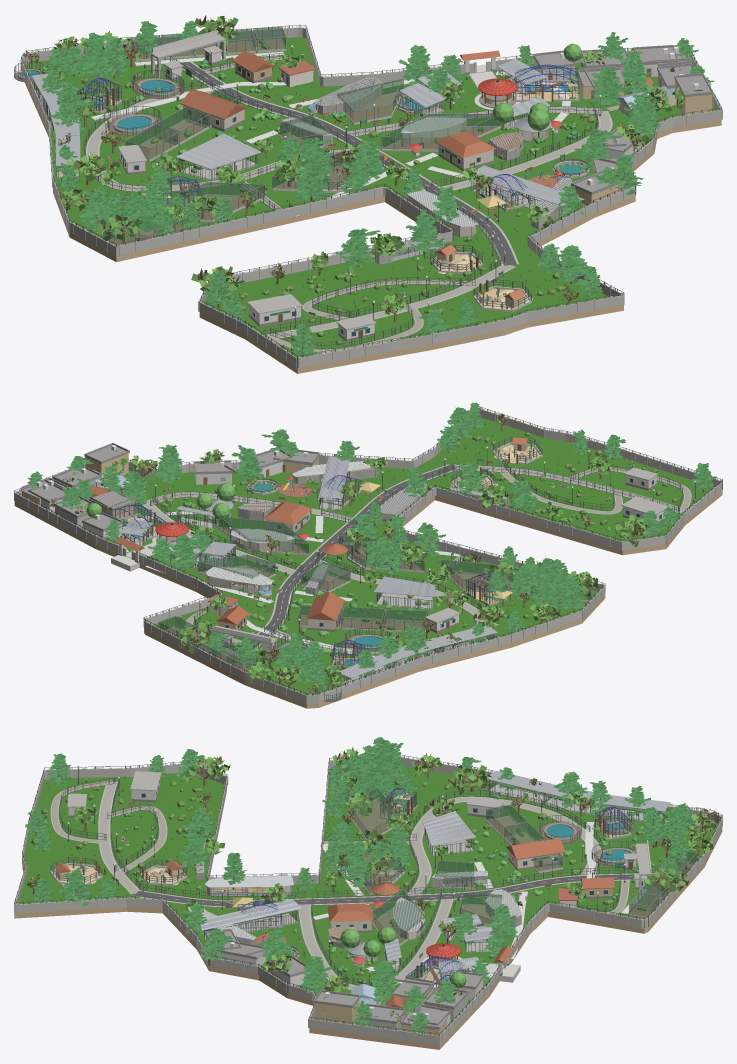
Rendered from mapa_corregido.glb.
The picture shows the model from 3 angles, top to bottom: view 1: azimuth 30°, elevation 25°; view 2: azimuth 150°, elevation 25°; view 3: azimuth 270°, elevation 25°; orthographic projection. The views are drawn at different scales.
Parts seen in each view (by area): view 1: PASTO_BASE, MURO_PERIMETRAL_BLOCK, ZN2_TELA_MALLA, ZN2_LAMINA_RECINTOS, BASE_ZOOLOGICO_NICOLAS_BRAVO, CERCAS_CAMINOS_UNIFICADO, ZN2_CASAS_BLOCK_LOSAS, ZN_TELA_MALLA, ZN2_TELA_PISO_Y_POSTES, CAMINO_AV_PRINCIPAL, PERIMETRO_CERCAS_UNIFICADO, ZN_TELA_PISO_Y_POSTES (+60 smaller); view 2: PASTO_BASE, MURO_PERIMETRAL_BLOCK, ZN2_TELA_MALLA, BASE_ZOOLOGICO_NICOLAS_BRAVO, ZN2_LAMINA_RECINTOS, CERCAS_CAMINOS_UNIFICADO, ZN2_CASAS_BLOCK_LOSAS, ZN_TELA_MALLA, PERIMETRO_CERCAS_UNIFICADO, CAMINO_AV_PRINCIPAL, ZN2_TELA_PISO_Y_POSTES, ZN2_CASAS_BLOCK_MUROS (+49 smaller); view 3: PASTO_BASE, MURO_PERIMETRAL_BLOCK, ZN2_TELA_MALLA, CERCAS_CAMINOS_UNIFICADO, ZN2_LAMINA_RECINTOS, ZN2_CASAS_BLOCK_LOSAS, BASE_ZOOLOGICO_NICOLAS_BRAVO, ZN_TELA_MALLA, CAMINO_AV_PRINCIPAL, ZN_LAMINA_RECINTOS, ZN2_CASAS_BLOCK_MUROS, ZN2_TELA_PISO_Y_POSTES (+53 smaller).
Boxes of the visible parts, left/top/right/bottom form: PASTO_BASE: left=25, top=37, right=715, bottom=357; MURO_PERIMETRAL_BLOCK: left=20, top=27, right=722, bottom=367; ZN2_TELA_MALLA: left=103, top=79, right=500, bottom=244; ZN2_LAMINA_RECINTOS: left=175, top=59, right=584, bottom=216; BASE_ZOOLOGICO_NICOLAS_BRAVO: left=24, top=82, right=721, bottom=373; CERCAS_CAMINOS_UNIFICADO: left=84, top=53, right=601, bottom=348; ZN2_CASAS_BLOCK_LOSAS: left=533, top=44, right=713, bottom=194; ZN_TELA_MALLA: left=126, top=26, right=285, bottom=159; ZN2_TELA_PISO_Y_POSTES: left=103, top=78, right=500, bottom=244; CAMINO_AV_PRINCIPAL: left=179, top=62, right=518, bottom=265; PERIMETRO_CERCAS_UNIFICADO: left=21, top=25, right=721, bottom=367; ZN_TELA_PISO_Y_POSTES: left=125, top=26, right=286, bottom=161; PASTO_BASE: left=53, top=416, right=713, bottom=695; MURO_PERIMETRAL_BLOCK: left=14, top=408, right=722, bottom=703; ZN2_TELA_MALLA: left=198, top=517, right=590, bottom=600; BASE_ZOOLOGICO_NICOLAS_BRAVO: left=14, top=490, right=722, bottom=708; ZN2_LAMINA_RECINTOS: left=120, top=456, right=435, bottom=609; CERCAS_CAMINOS_UNIFICADO: left=150, top=463, right=682, bottom=653; ZN2_CASAS_BLOCK_LOSAS: left=21, top=443, right=319, bottom=531; ZN_TELA_MALLA: left=159, top=605, right=427, bottom=671; PERIMETRO_CERCAS_UNIFICADO: left=14, top=406, right=722, bottom=695; CAMINO_AV_PRINCIPAL: left=237, top=464, right=458, bottom=652; ZN2_TELA_PISO_Y_POSTES: left=198, top=517, right=591, bottom=600; ZN2_CASAS_BLOCK_MUROS: left=22, top=453, right=318, bottom=538; PASTO_BASE: left=18, top=766, right=717, bottom=1030; MURO_PERIMETRAL_BLOCK: left=14, top=756, right=722, bottom=1044; ZN2_TELA_MALLA: left=328, top=768, right=501, bottom=943; CERCAS_CAMINOS_UNIFICADO: left=59, top=775, right=657, bottom=987; ZN2_LAMINA_RECINTOS: left=200, top=811, right=493, bottom=981; ZN2_CASAS_BLOCK_LOSAS: left=205, top=928, right=484, bottom=1029; BASE_ZOOLOGICO_NICOLAS_BRAVO: left=14, top=789, right=722, bottom=1049; ZN_TELA_MALLA: left=486, top=805, right=696, bottom=916; CAMINO_AV_PRINCIPAL: left=135, top=873, right=654, bottom=907; ZN_LAMINA_RECINTOS: left=487, top=770, right=670, bottom=823; ZN2_CASAS_BLOCK_MUROS: left=206, top=936, right=483, bottom=1035; ZN2_TELA_PISO_Y_POSTES: left=328, top=768, right=502, bottom=943.
Bounding box in the file's own units: 165 × 11.98 × 177.
